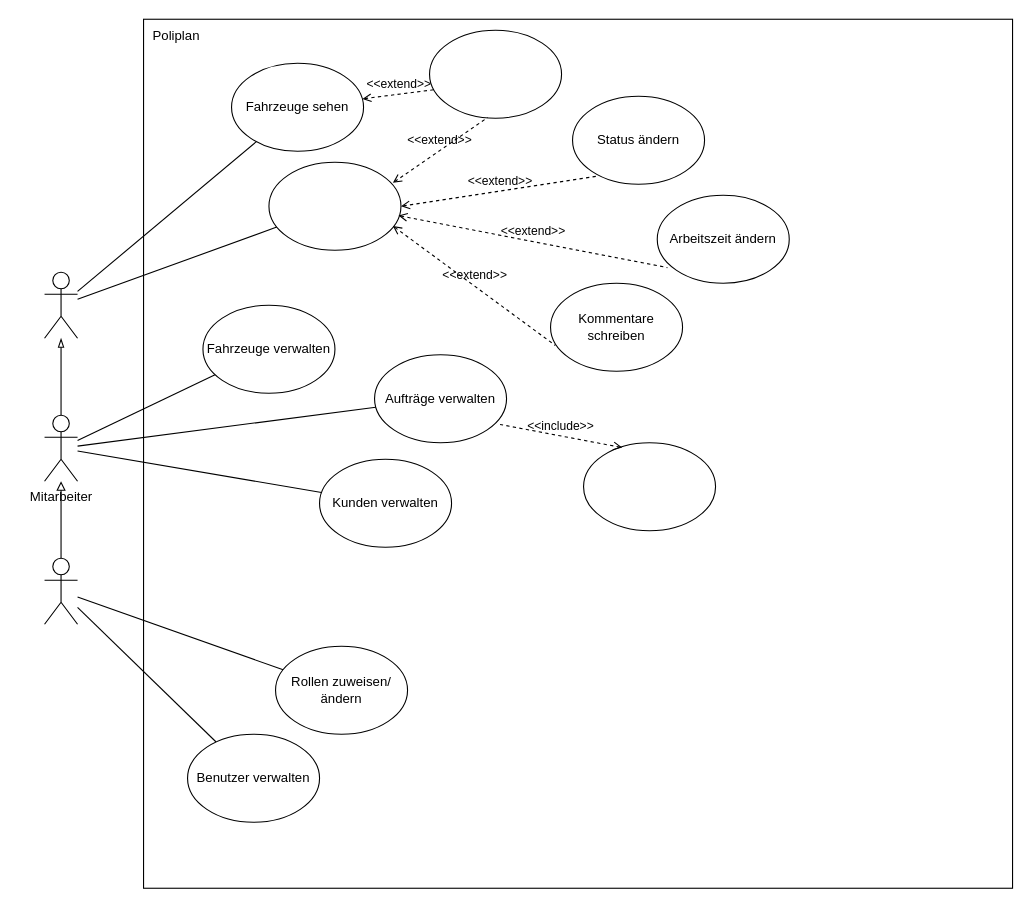
This 1032x908 diagram has some shape labels left out. Here are the shapes that lost their labels. From the top down, the centre of each, then its label:
At pixel 495 73: "Bilder hochladen".
At pixel 334 205: "eigene Aufträge sehen".
At pixel 60 304: "Auszubildener".
At pixel 649 486: "Aufträge zuweisen".
At pixel 60 590: "Administrator".
